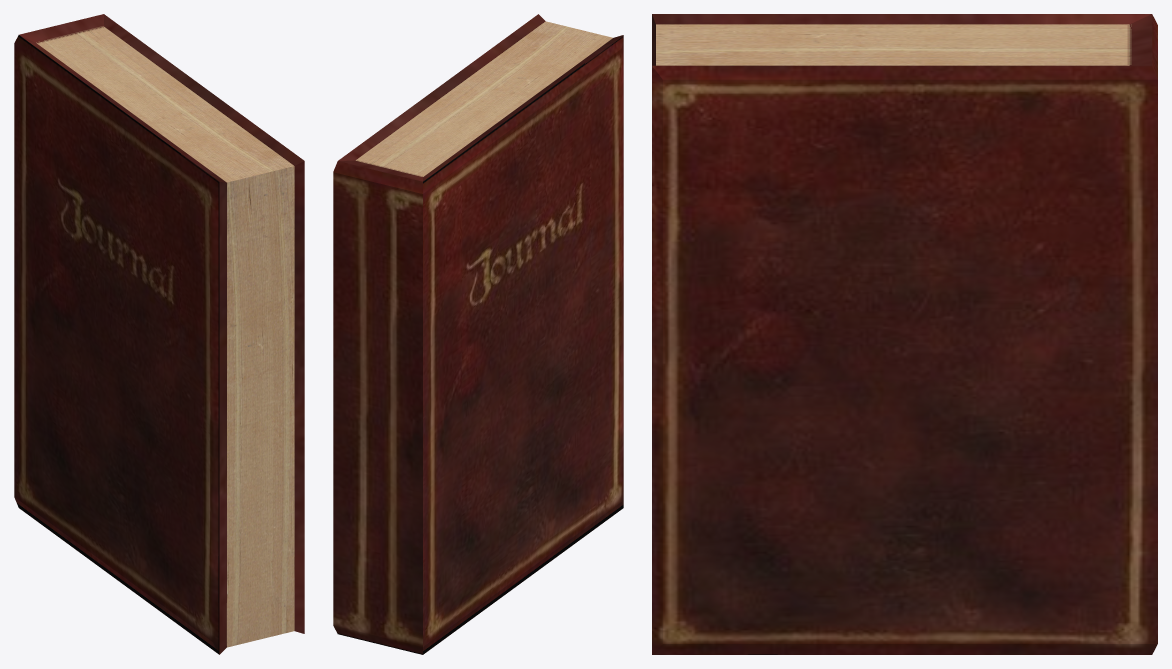
Rendered from Book.fbx.
3 renders of one model, left to right at view 1: azimuth 30°, elevation 25°; view 2: azimuth 150°, elevation 25°; view 3: azimuth 270°, elevation 25°, orthographic. The views are drawn at different scales.
Parts seen in each view (by area): view 1: Cube; view 2: Cube; view 3: Cube.
Boxes of the visible parts, x1,y1,x2,y2 form: Cube: (14, 14, 304, 654); Cube: (333, 14, 623, 654); Cube: (652, 14, 1157, 654).
Bounding box in the file's own units: 39.52 × 199 × 155.
